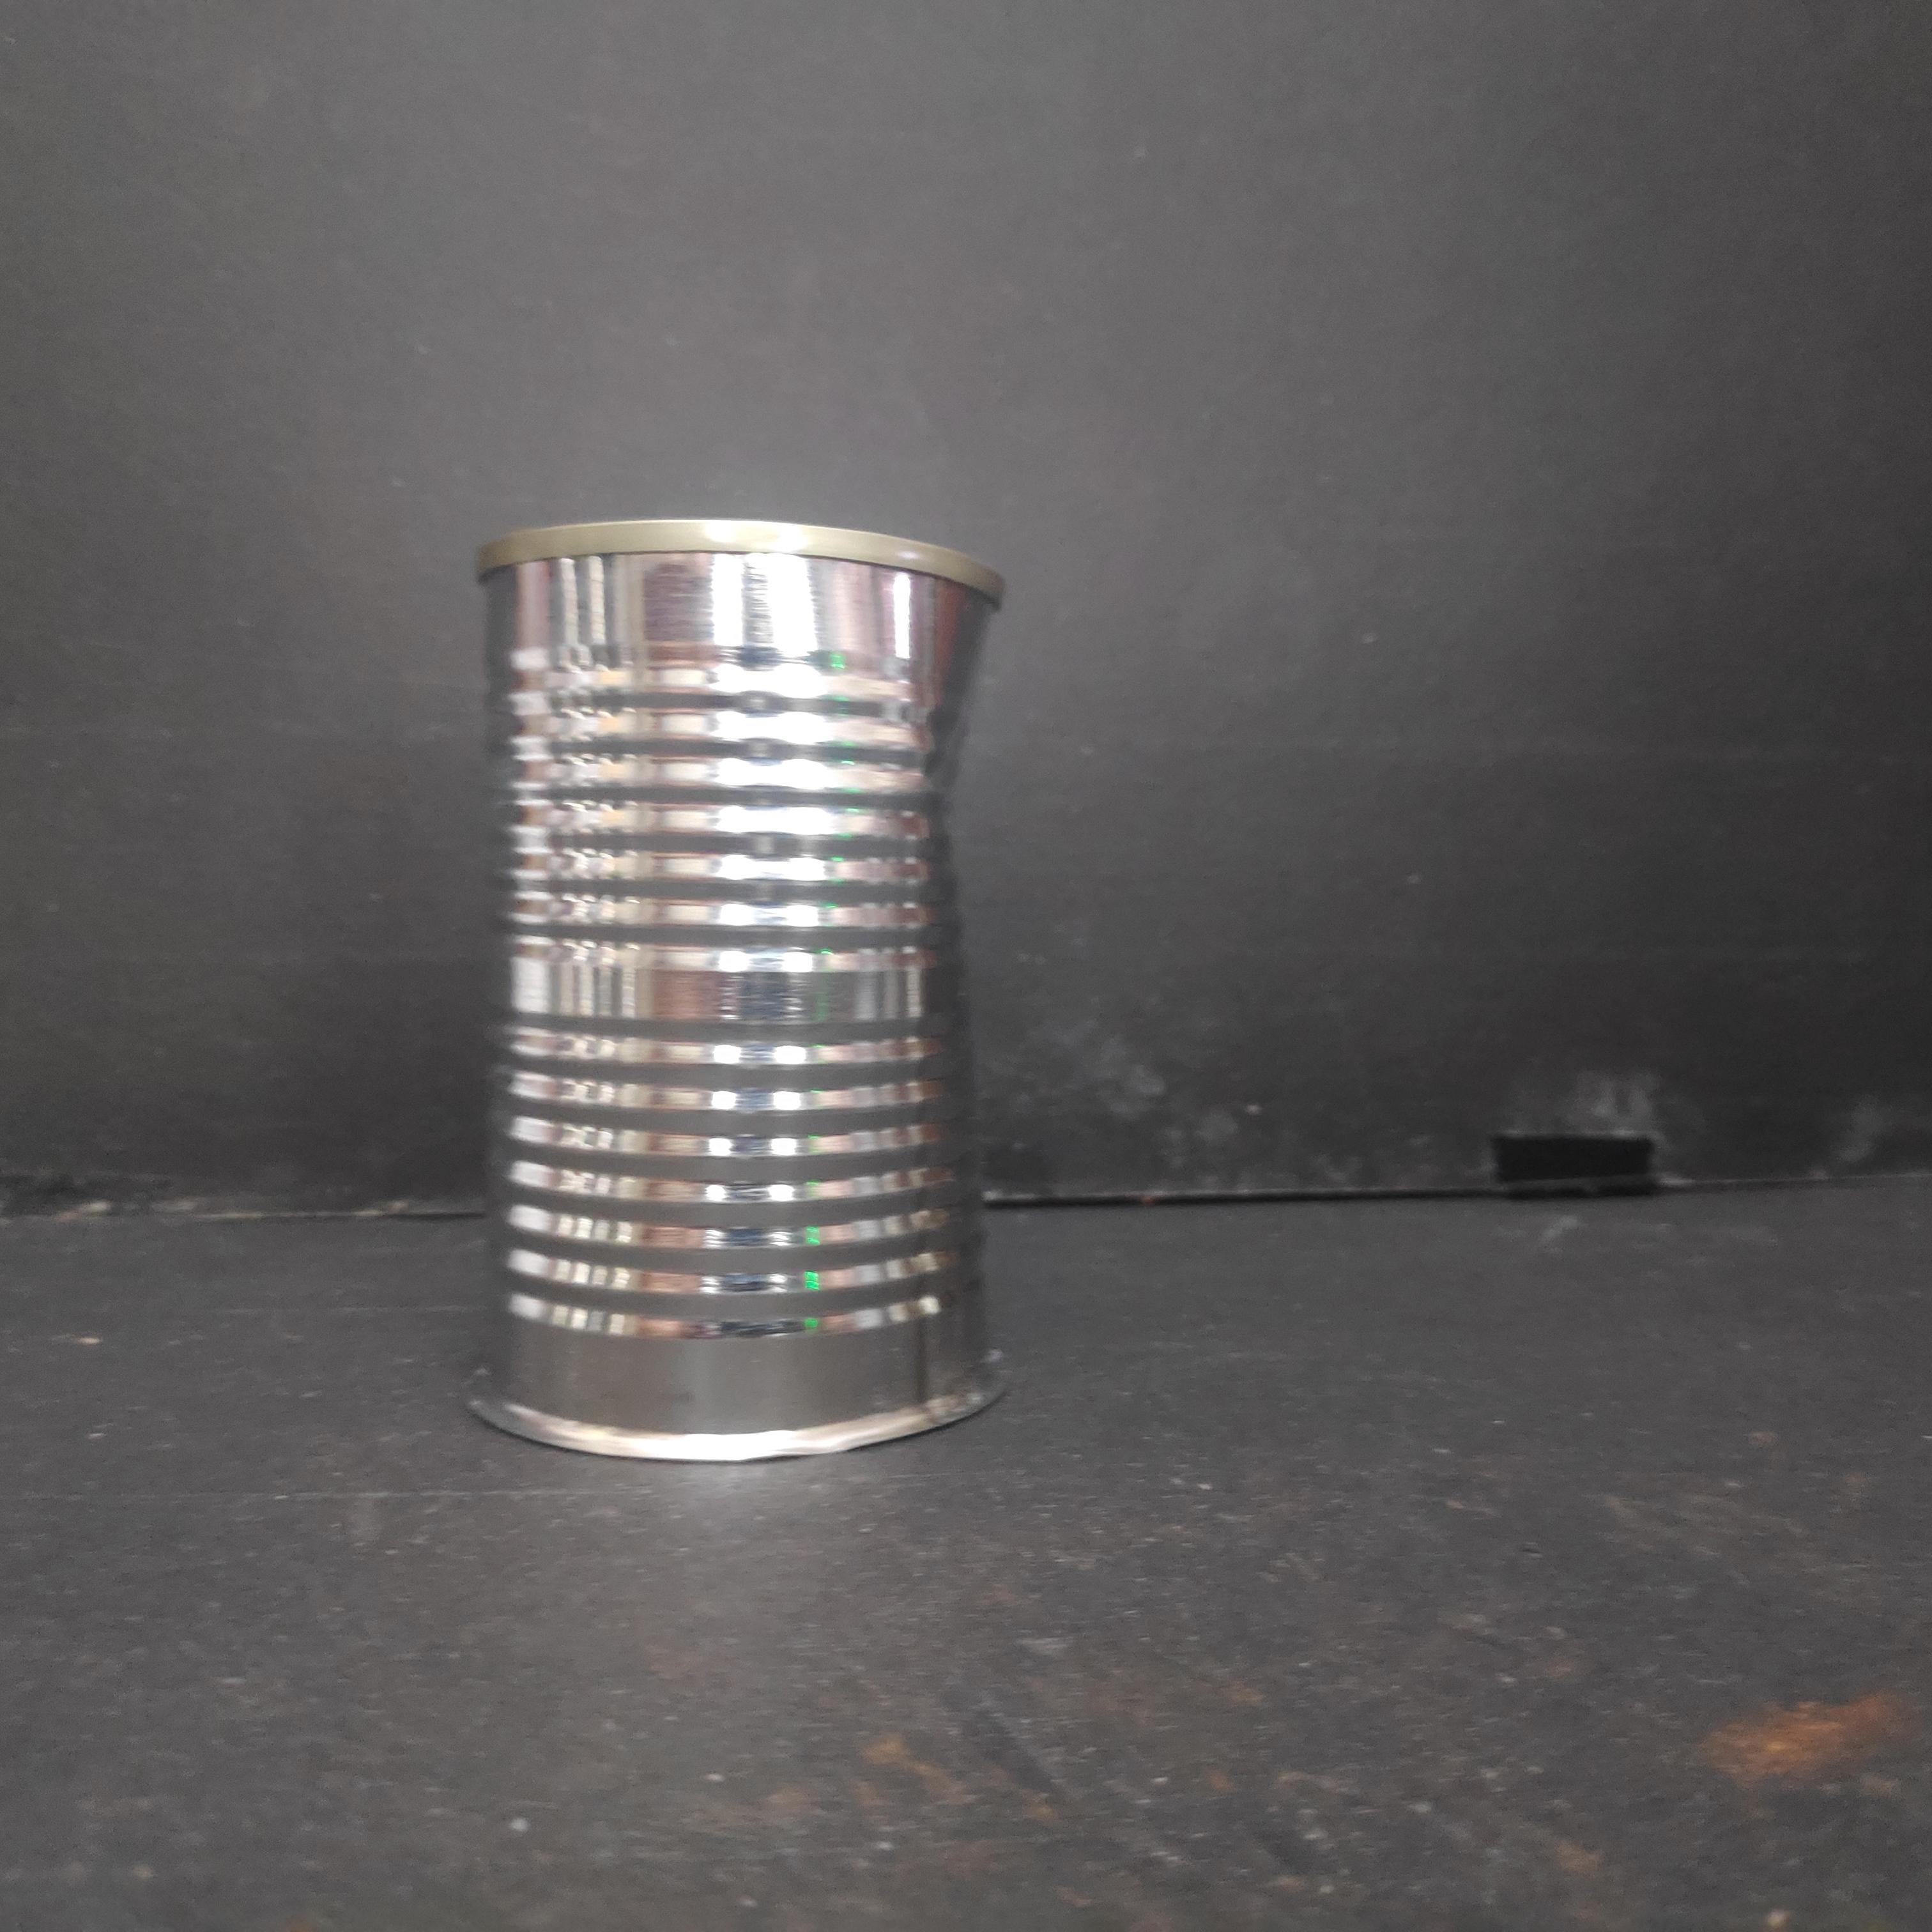Minor Defect: (462, 506, 1023, 1470)
